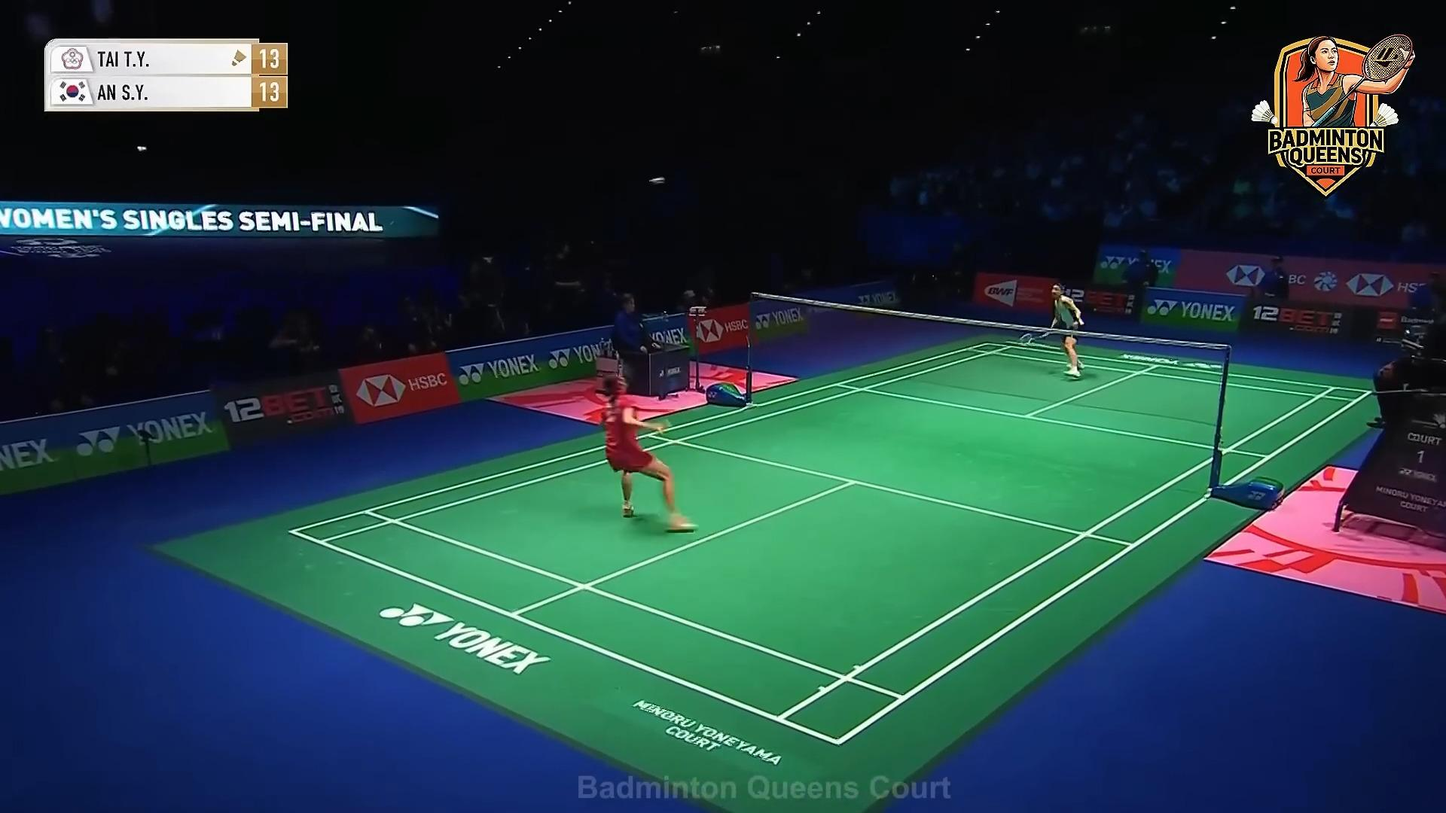player: (595, 372, 700, 533), (1019, 279, 1088, 382)
